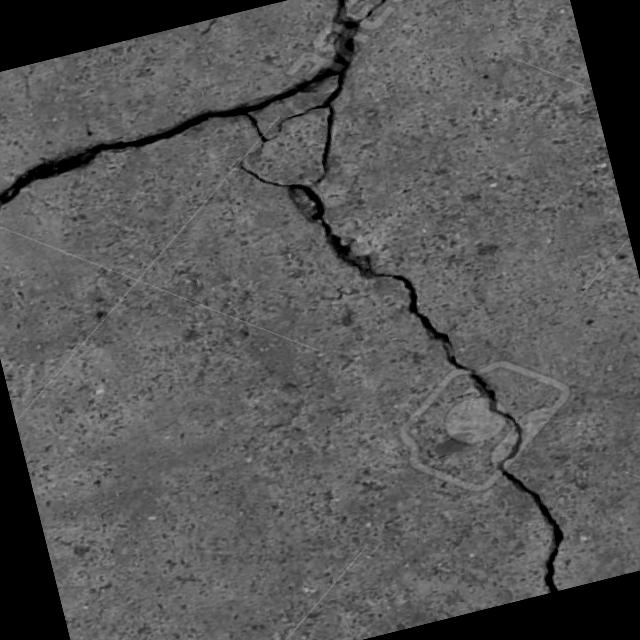crack: (199, 0, 583, 640), (0, 102, 235, 223)
